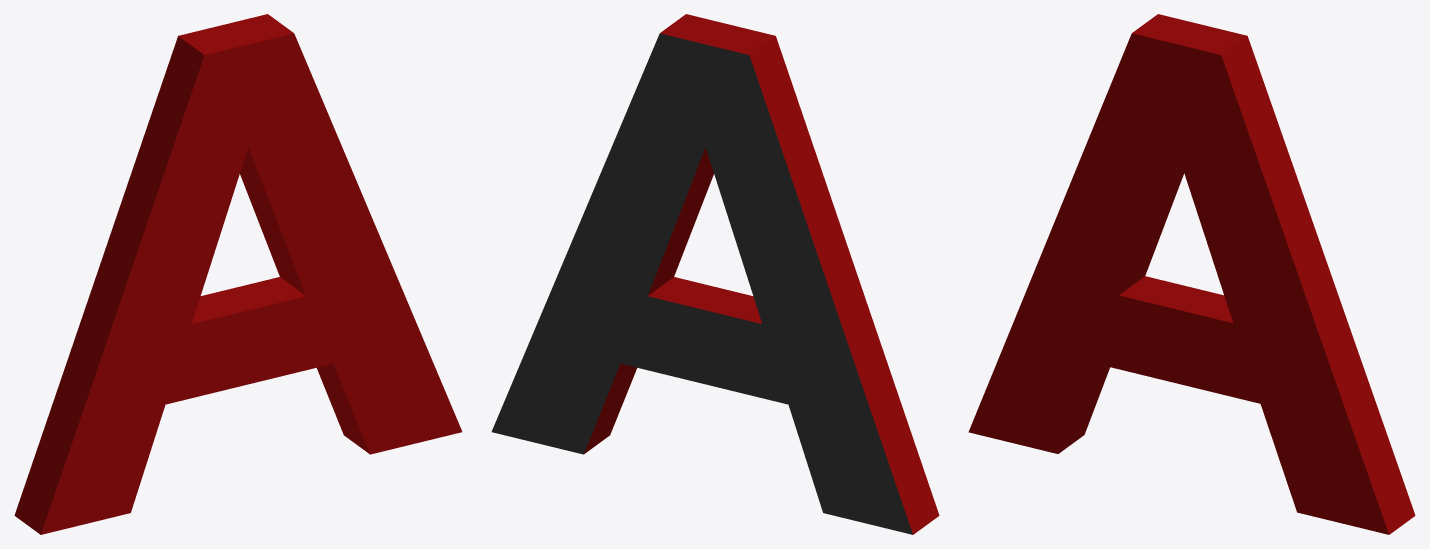
3 views of the same model, side by side, from view 1: azimuth 30°, elevation 25°; view 2: azimuth 150°, elevation 25°; view 3: azimuth 330°, elevation 25° (orthographic).
Parts seen in each view (by area): view 1: Plane053; view 2: Plane053; view 3: Plane053.
Boxes of the visible parts, left/top/right/bottom form: Plane053: left=14, top=14, right=462, bottom=534; Plane053: left=491, top=14, right=939, bottom=534; Plane053: left=968, top=14, right=1415, bottom=534.
Bounding box in the file's own units: 61.93 × 61.72 × 6.71.
